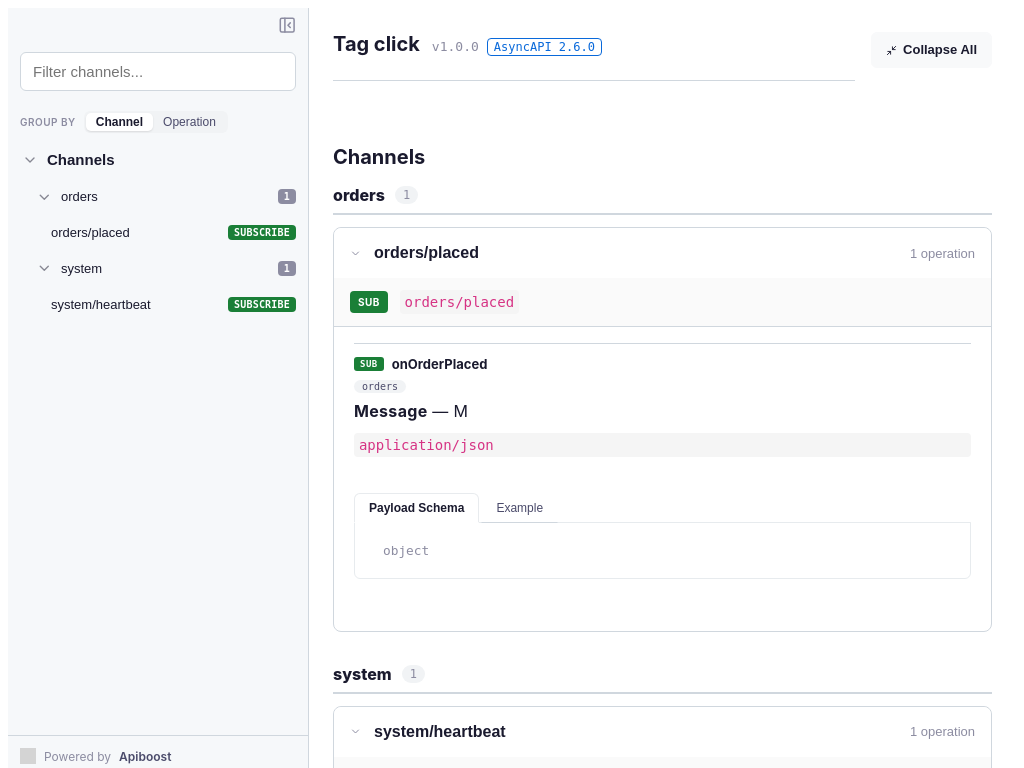
Test case: AsyncApiSpec tag chip click filters › filters the list to the clicked tag
Expected: the navigation bar is shown, [8, 137, 308, 326]
Click the button "orders" at (380, 386), box [354, 380, 406, 393]
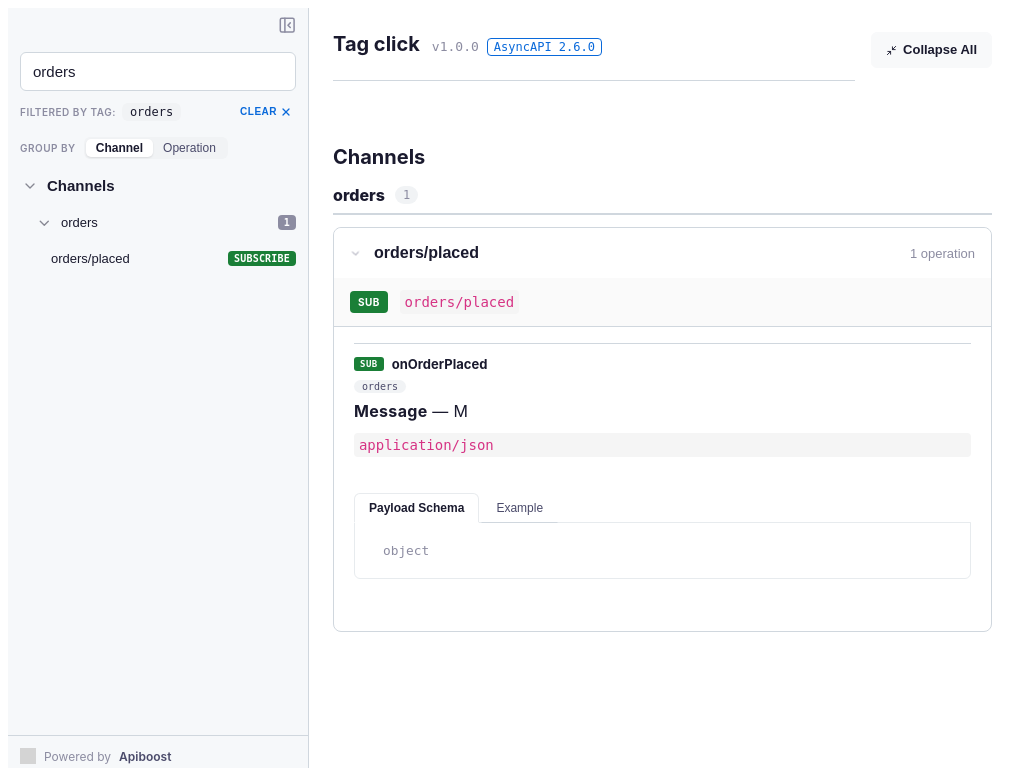
Expected: the 1st text "orders/placed" is shown, [51, 251, 130, 266]
Expected: the button "system/heartbeat" is gone
